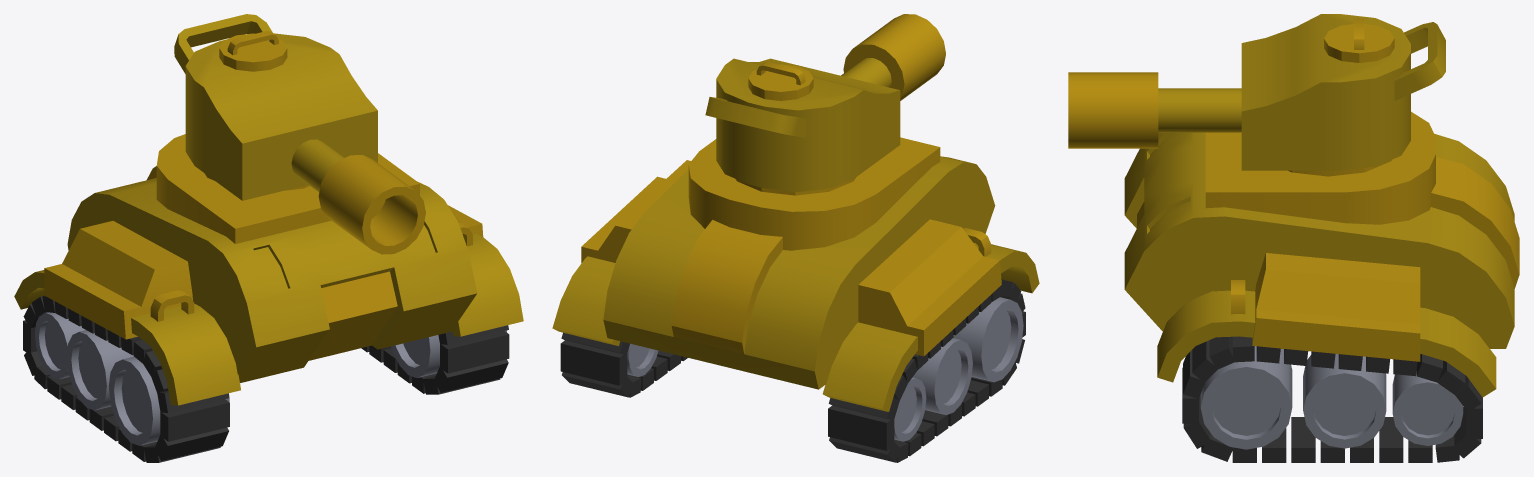
The model's file is Tank.glb.
3 renders of one model, left to right at view 1: azimuth 30°, elevation 25°; view 2: azimuth 150°, elevation 25°; view 3: azimuth 270°, elevation 25°, orthographic. The views are drawn at different scales.
Visible parts, largest first — view 1: Tank; view 2: Tank; view 3: Tank.
Boxes of the visible parts, x1,y1,x2,y2 form: Tank: [14, 14, 523, 462]; Tank: [552, 14, 1039, 462]; Tank: [1068, 14, 1519, 462].
Size of the model in its own units: 0.7592 by 0.6859 by 0.8009.
